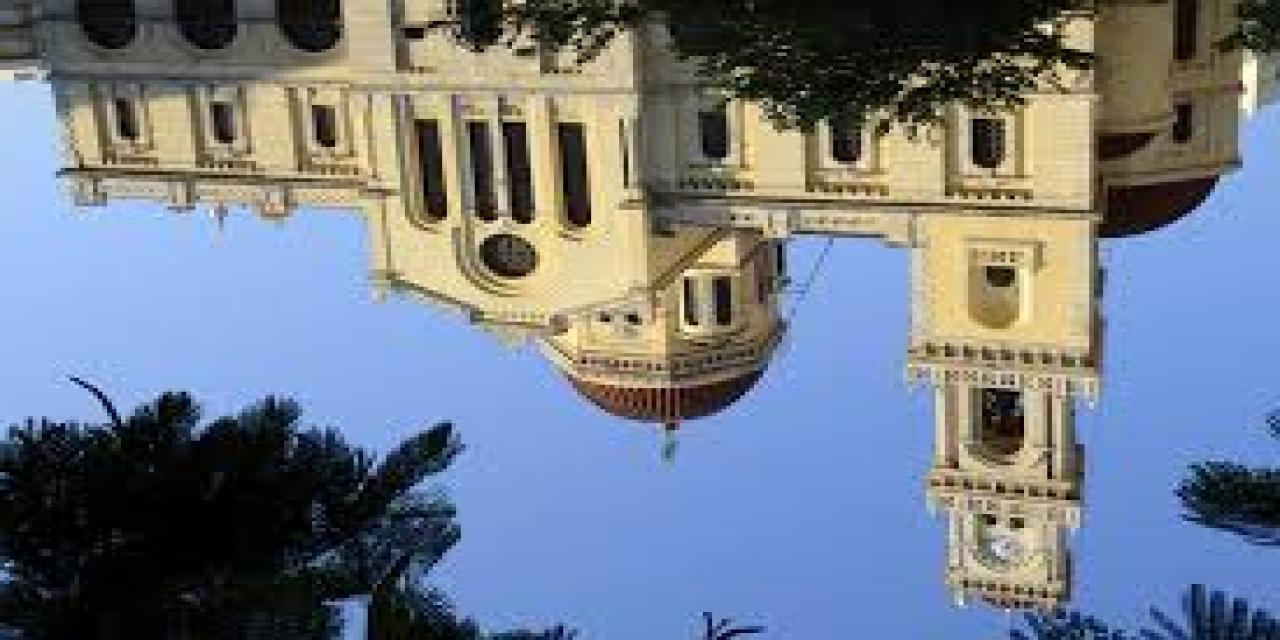Agios Minas: (48, 1, 1250, 617)
